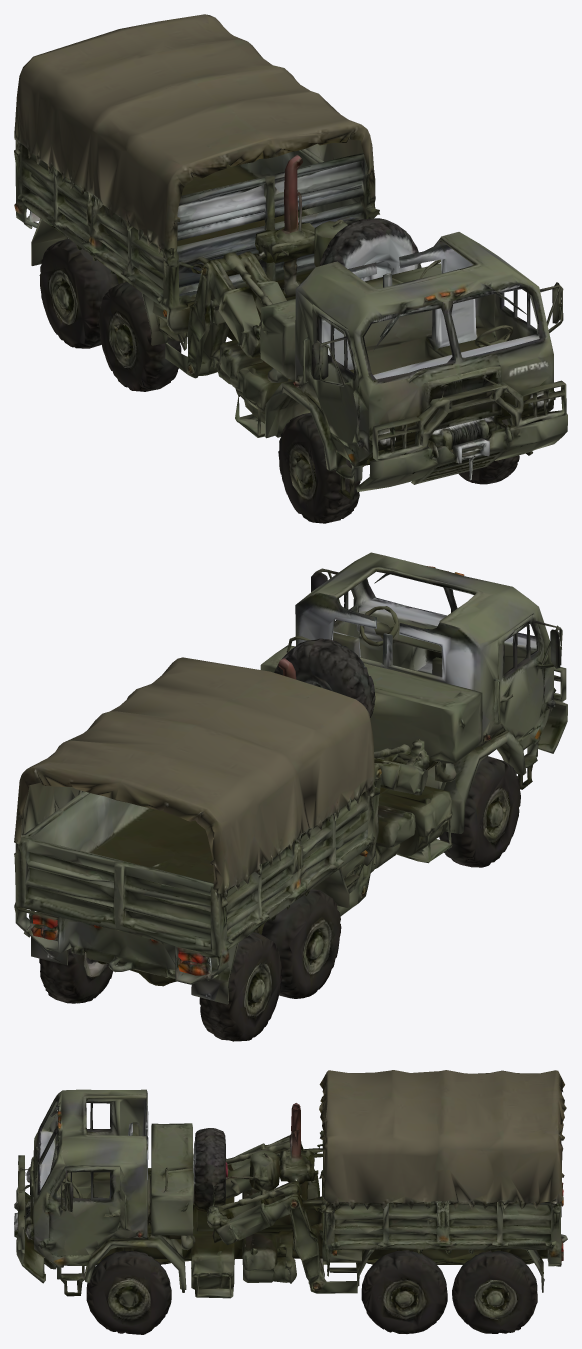
The model's file is truck.glb.
The picture shows the model from 3 angles, top to bottom: view 1: azimuth 30°, elevation 25°; view 2: azimuth 150°, elevation 25°; view 3: azimuth 270°, elevation 25°; orthographic projection. The views are drawn at different scales.
Visible parts, largest first — view 1: tripo_node_66a390e4-a86a-480b-b9fa-aa49d66f5468; view 2: tripo_node_66a390e4-a86a-480b-b9fa-aa49d66f5468; view 3: tripo_node_66a390e4-a86a-480b-b9fa-aa49d66f5468.
Boxes of the visible parts, x1=… form: tripo_node_66a390e4-a86a-480b-b9fa-aa49d66f5468: x1=14, y1=14, x2=567, y2=523; tripo_node_66a390e4-a86a-480b-b9fa-aa49d66f5468: x1=14, y1=552, x2=567, y2=1041; tripo_node_66a390e4-a86a-480b-b9fa-aa49d66f5468: x1=14, y1=1070, x2=567, y2=1334.
Bounding box in the file's own units: 0.3909 × 0.3972 × 0.9778.
Materials: 1 (1 with a texture image).
